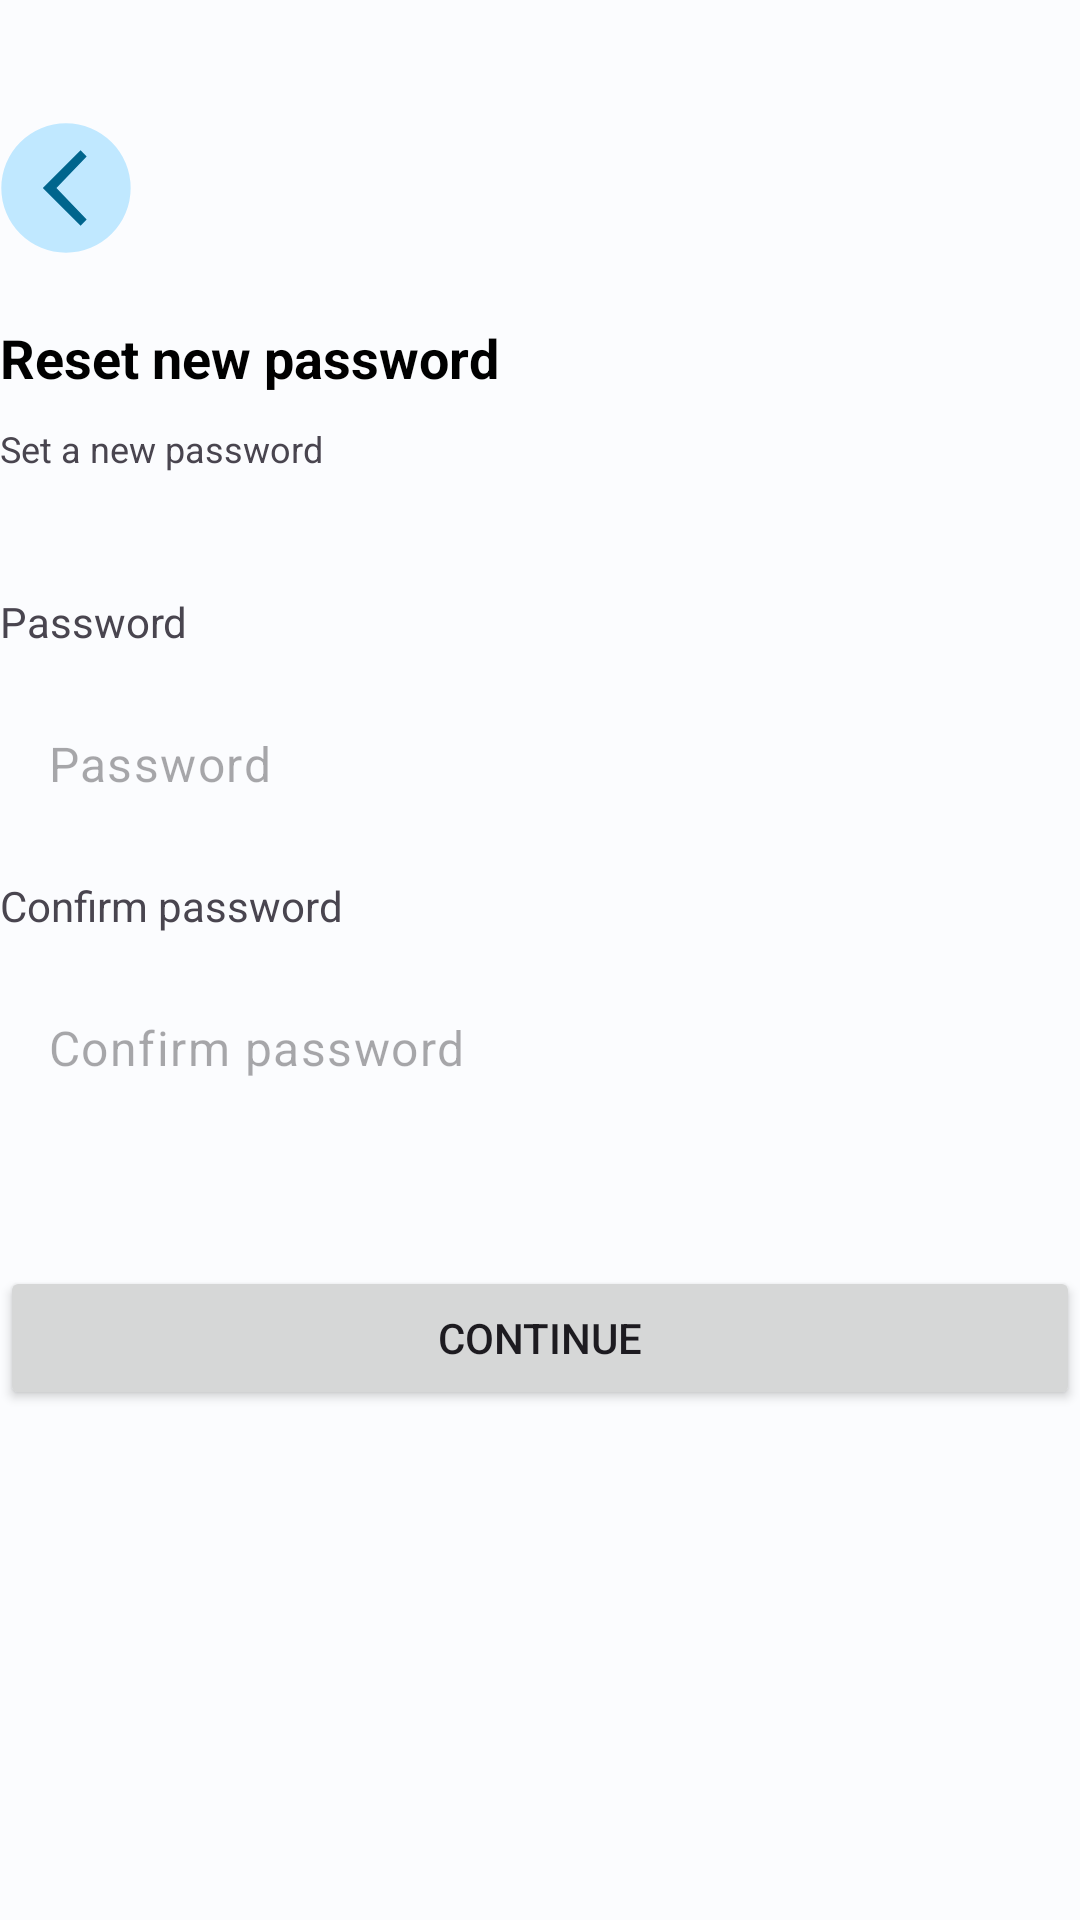

Screen size 1080w x 1920h. Icon name, then its box in pixels as (x1=x1, y1=y1, x2=x2, y2=y2):
Back: (x1=1, y1=123, x2=131, y2=253)
